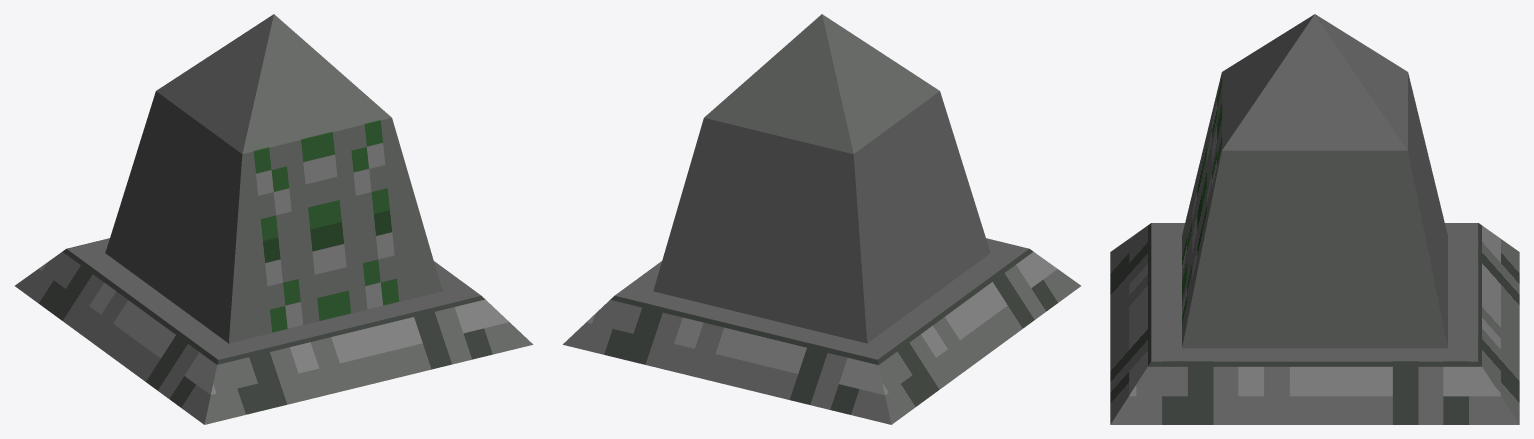
The model's file is Healpoint.obj.
The picture shows the model from 3 angles, left to right: view 1: azimuth 30°, elevation 25°; view 2: azimuth 150°, elevation 25°; view 3: azimuth 270°, elevation 25°; orthographic projection. The views are drawn at different scales.
Parts seen in each view (by area): view 1: Cube_Cube.002; view 2: Cube_Cube.002; view 3: Cube_Cube.002.
Part boxes in pixels (x1,y1,x2,y2): Cube_Cube.002: (15, 14, 532, 424); Cube_Cube.002: (563, 14, 1080, 424); Cube_Cube.002: (1110, 14, 1519, 424).
Size of the model in its own units: 8 by 7 by 8.
